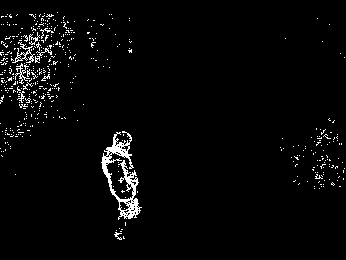person: (98, 130, 145, 242)
